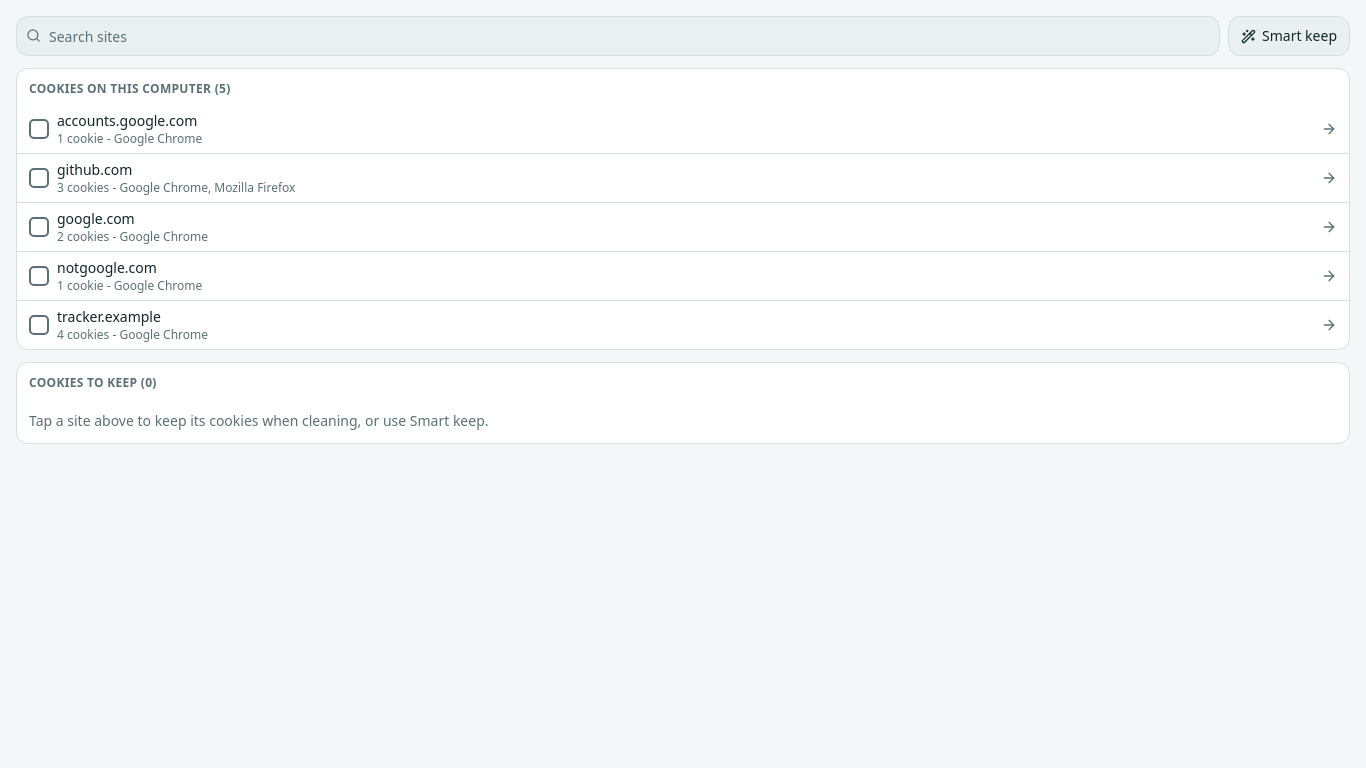
CookiesPage › rolls the move back and shows an error when saving fails
Expected: the element with test id "cookies-all" is shown, [16, 68, 1350, 350]
Click the button with test id "cookie-keep-github.com" at (95, 170), box [57, 158, 1337, 198]
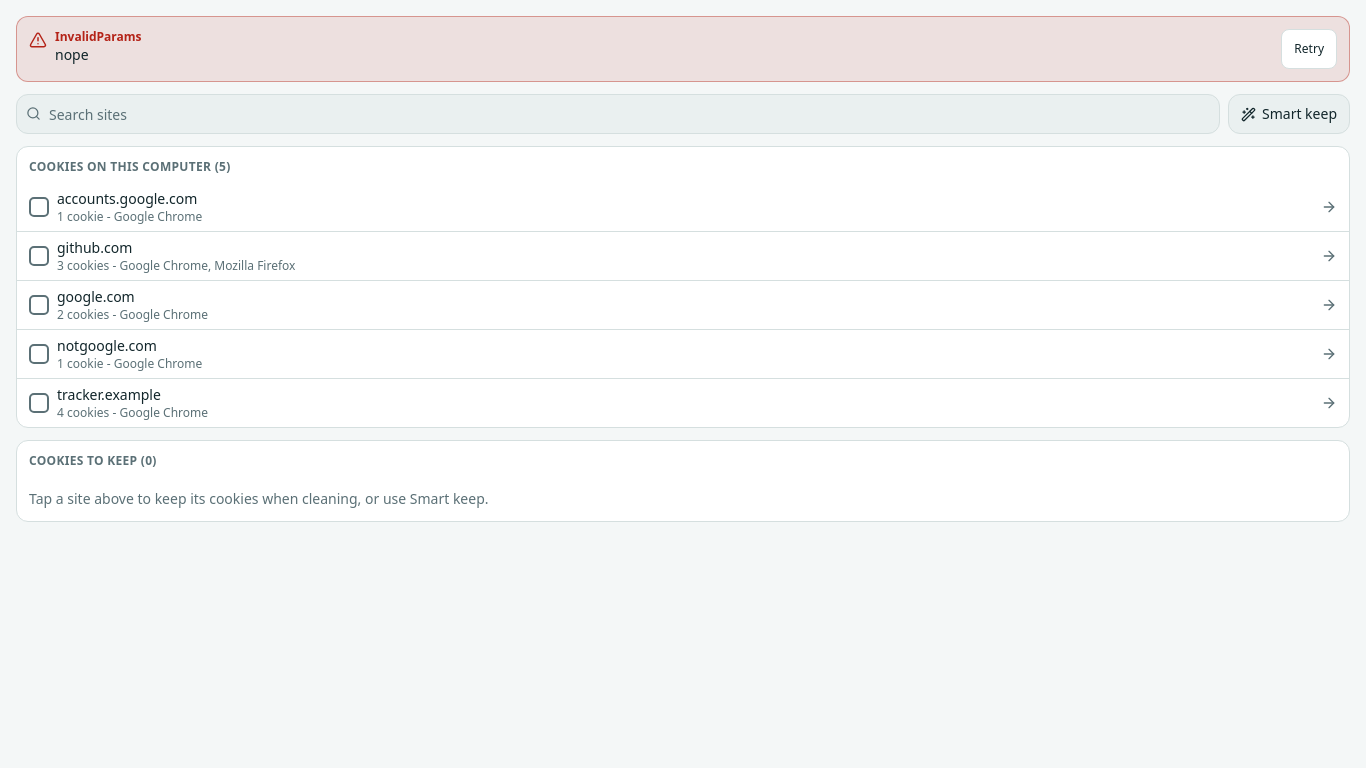
Expected: the list item with test id "cookie-github.com" is shown, [17, 232, 1349, 281]
Expected: the message with test id "error-banner" shows "nope", [55, 45, 89, 64]
